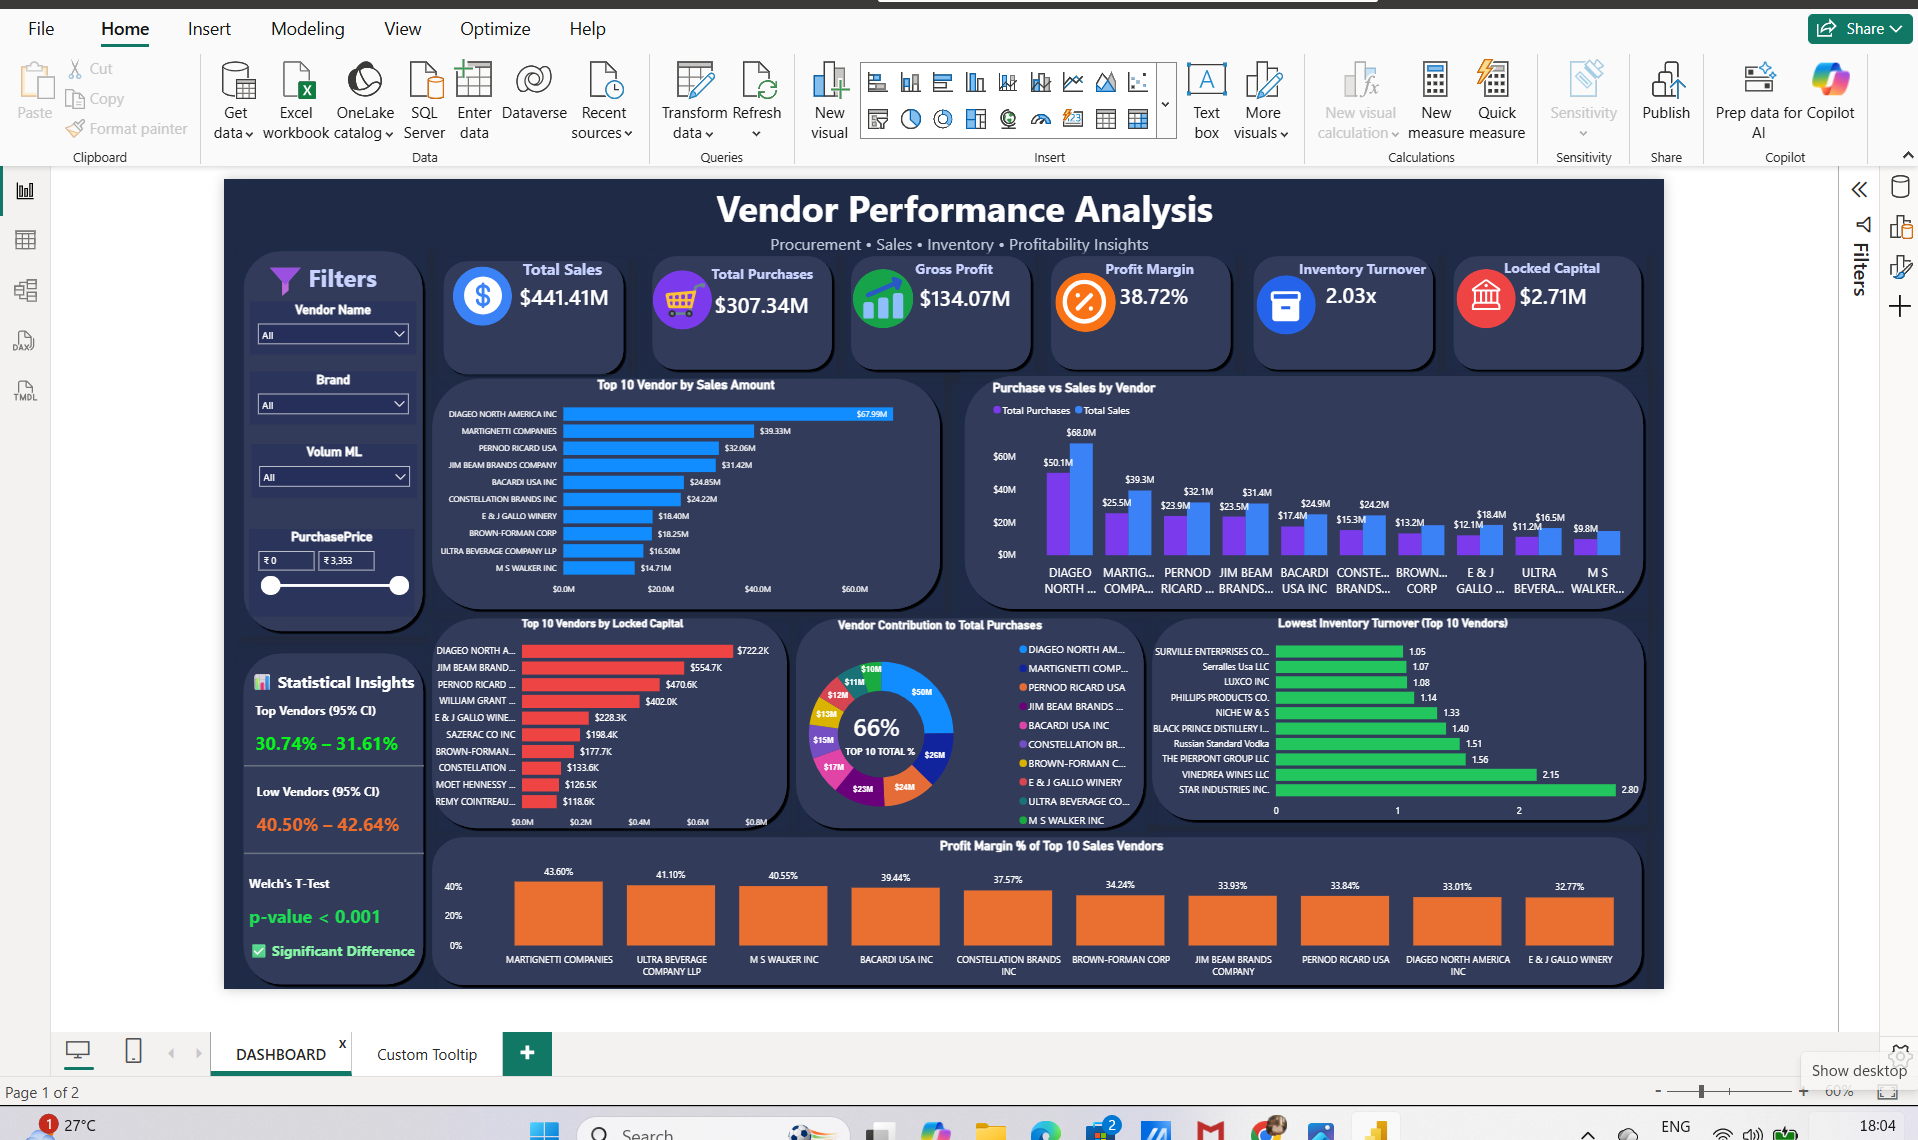

This screenshot's page, from the dashboard's own definition file:
{"tool":"powerbi","page":{"name":"DASHBOARD","canvas":[1920,1080],"ordinal":0},"visuals":[{"type":"shape","box":[20.3,90.4,251,519.1],"z":0},{"type":"shape","box":[19.8,627.4,251.7,453],"z":1000},{"type":"textbox","box":[651.6,0,687.5,79.5],"z":2000},{"type":"textbox","box":[723.3,67,536.3,45.2],"z":3000},{"type":"shape","box":[286.4,103.1,252,163.2],"z":4000},{"type":"shape","box":[564.3,97,251.5,163.6],"z":5000},{"type":"shape","box":[830.1,97,251.5,163.6],"z":6000},{"type":"shape","box":[1097.5,97,251.5,163.6],"z":7000},{"type":"shape","box":[1366.5,97,251.5,163.6],"z":8000},{"type":"shape","box":[1634.1,97.1,262.5,163.5],"z":9000},{"type":"shape","box":[305.3,116.9,79.1,79.1],"z":10000},{"type":"shape","box":[571.3,122.2,79.1,79.1],"z":11000},{"type":"shape","box":[837.8,120.4,80.9,79.1],"z":12000},{"type":"shape","box":[1107.6,125.1,80.9,79.1],"z":13000},{"type":"shape","box":[1376.5,129,79.1,79.1],"z":14000},{"type":"shape","box":[1642.8,120.5,79.1,79.1],"z":15000},{"type":"cardVisual","fields":{"Data":["mesaure.Total Sales"]},"box":[364.5,120.3,180.8,70.2],"z":16000},{"type":"cardVisual","fields":{"Data":["mesaure.Total Purchases"]},"box":[625.1,137.2,188.6,59.2],"z":17000},{"type":"cardVisual","fields":{"Data":["mesaure.Gross Profit"]},"box":[898.9,122.2,188.8,70.1],"z":18000},{"type":"cardVisual","fields":{"Data":["mesaure.Average Profit Margin"]},"box":[1164.9,118.6,158.2,70.1],"z":19000},{"type":"cardVisual","fields":{"Data":["mesaure.Average Stock Turnover"]},"box":[1440,116.8,158.2,70.1],"z":20000},{"type":"cardVisual","fields":{"Data":["mesaure.Locked Capital"]},"box":[1697.6,118.5,222.9,73.3],"z":21000},{"type":"textbox","box":[393.7,100.6,124,41.3],"z":22000},{"type":"textbox","box":[645.4,107.9,156.4,41.3],"z":23000},{"type":"textbox","box":[916.9,102.5,131.2,41.3],"z":24000},{"type":"textbox","box":[1170.3,102.5,156.4,41.3],"z":25000},{"type":"textbox","box":[1428,101.3,194.9,42.1],"z":26000},{"type":"textbox","box":[1702.5,100.7,194.2,41.3],"z":27000},{"type":"image","box":[314.2,120.6,61.1,70.1],"z":28000},{"type":"image","box":[580.3,134.8,70.1,53.9],"z":29000},{"type":"image","box":[846.7,129.4,64.7,55.7],"z":30000},{"type":"image","box":[1109,129,77.3,70.1],"z":31000},{"type":"image","box":[1392.1,138.7,48.3,62.4],"z":32000},{"type":"image","box":[1650.9,127.8,62.4,54.6],"z":33000},{"type":"shape","box":[271.2,260.3,689,319.6],"z":34000},{"type":"shape","box":[982.1,257.2,916.6,322.7],"z":35000},{"type":"shape","box":[271.2,579.9,484.8,291.5],"z":36000},{"type":"shape","box":[756.1,579.9,475.5,291.5],"z":37000},{"type":"shape","box":[1231.5,579.9,667.2,280.6],"z":38000},{"type":"shape","box":[271.2,871.4,1624.4,208.9],"z":39000},{"type":"clusteredColumnChart","title":"Purchase vs Sales by Vendor","fields":{"Category":["Vendor_Performance_Analysis.VendorName"],"Y":["mesaure.Total Purchases","mesaure.Total Sales"]},"box":[1019.5,268.1,879.2,296.2],"z":40000},{"type":"cardVisual","title":"Vendor Contribution to Total Purchases","fields":{"Data":["mesaure.Top 10 Purchase Share"]},"box":[810.7,695.5,145.1,66.1],"z":41000},{"type":"donutChart","title":"Vendor Contribution to Total Purchases","fields":{"Category":["Vendor_Performance_Analysis.VendorName"],"Y":["mesaure.Total Purchases"]},"box":[689,584.6,533.1,293.1],"z":42000},{"type":"textbox","box":[823.1,748.3,130.9,28.1],"z":43000},{"type":"clusteredBarChart","title":"Top 10 Vendors by Locked Capital","fields":{"Category":["Vendor_Performance_Analysis.VendorName"],"Y":["mesaure.Locked Capital"]},"box":[268.1,583,473.9,286.8],"z":44000},{"type":"clusteredBarChart","title":"Lowest Inventory Turnover (Top 10 Vendors)","fields":{"Category":["Vendor_Performance_Analysis.VendorName"],"Y":["mesaure.Vendor Stock Turnover"]},"box":[1222.2,583,673.4,277.5],"z":45000},{"type":"clusteredColumnChart","title":"Profit Margin % of Top 10 Sales Vendors","fields":{"Category":["Vendor_Performance_Analysis.VendorName"],"Y":["mesaure.Average Profit Margin"]},"box":[286.8,877.7,1633.7,194.9],"z":46000},{"type":"slicer","title":"Vendor Name","fields":{"Values":["Vendor_Performance_Analysis.VendorName"]},"box":[34.3,163.7,221.4,70.2],"z":47000},{"type":"textbox","box":[98.2,104.4,120,57.7],"z":48000},{"type":"image","box":[34.3,107.6,93.5,57.7],"z":49000},{"type":"slicer","title":"Brand","fields":{"Values":["Vendor_Performance_Analysis.Brand"]},"box":[34.3,257.2,221.4,70.2],"z":50000},{"type":"slicer","title":"Volum ML","fields":{"Values":["Vendor_Performance_Analysis.Volume"]},"box":[36.1,354.1,221.1,72.2],"z":51000},{"type":"slicer","title":"PurchasePrice","fields":{"Values":["Vendor_Performance_Analysis.PurchasePrice"]},"box":[34.2,467.4,221.1,116.9],"z":52000},{"type":"textbox","box":[31.2,650.1,227.6,45.2],"z":53000},{"type":"textbox","box":[37.4,692.2,218.2,84.2],"z":54000},{"type":"shape","box":[26.5,768.5,240.1,28.1],"z":55000},{"type":"textbox","box":[39,799.7,218.2,88.9],"z":56000},{"type":"shape","box":[26.5,887,240.1,24.9],"z":57000},{"type":"textbox","box":[28.1,905.7,272.8,154.3],"z":58000},{"type":"clusteredBarChart","title":"Top 10 Vendor by Sales Amount","fields":{"Category":["Vendor_Performance_Analysis.VendorName"],"Y":["mesaure.Total Sales"]},"box":[271.2,263.5,689,300.9],"z":58001}]}

Visuals, with their boxes on the page's 1920x1080 design canvas (x1, y1, x2, y2). These are canvas units, not pixel positions in the 1918x1140 screenshot, which may show the page scaled, cropped or inside an application window:
shape: 20:90:271:610
shape: 20:627:272:1080
textbox: 652:0:1339:80
textbox: 723:67:1260:112
shape: 286:103:538:266
shape: 564:97:816:261
shape: 830:97:1082:261
shape: 1098:97:1349:261
shape: 1366:97:1618:261
shape: 1634:97:1897:261
shape: 305:117:384:196
shape: 571:122:650:201
shape: 838:120:919:200
shape: 1108:125:1188:204
shape: 1376:129:1456:208
shape: 1643:120:1722:200
cardVisual - mesaure.Total Sales: 364:120:545:190
cardVisual - mesaure.Total Purchases: 625:137:814:196
cardVisual - mesaure.Gross Profit: 899:122:1088:192
cardVisual - mesaure.Average Profit Margin: 1165:119:1323:189
cardVisual - mesaure.Average Stock Turnover: 1440:117:1598:187
cardVisual - mesaure.Locked Capital: 1698:118:1920:192
textbox: 394:101:518:142
textbox: 645:108:802:149
textbox: 917:102:1048:144
textbox: 1170:102:1327:144
textbox: 1428:101:1623:143
textbox: 1702:101:1897:142
image: 314:121:375:191
image: 580:135:650:189
image: 847:129:911:185
image: 1109:129:1186:199
image: 1392:139:1440:201
image: 1651:128:1713:182
shape: 271:260:960:580
shape: 982:257:1899:580
shape: 271:580:756:871
shape: 756:580:1232:871
shape: 1232:580:1899:860
shape: 271:871:1896:1080
"Purchase vs Sales by Vendor" clusteredColumnChart: 1020:268:1899:564
"Vendor Contribution to Total Purchases" cardVisual: 811:696:956:762
"Vendor Contribution to Total Purchases" donutChart: 689:585:1222:878
textbox: 823:748:954:776
"Top 10 Vendors by Locked Capital" clusteredBarChart: 268:583:742:870
"Lowest Inventory Turnover (Top 10 Vendors)" clusteredBarChart: 1222:583:1896:860
"Profit Margin % of Top 10 Sales Vendors" clusteredColumnChart: 287:878:1920:1073
"Vendor Name" slicer: 34:164:256:234
textbox: 98:104:218:162
image: 34:108:128:165
"Brand" slicer: 34:257:256:327
"Volum ML" slicer: 36:354:257:426
"PurchasePrice" slicer: 34:467:255:584
textbox: 31:650:259:695
textbox: 37:692:256:776
shape: 26:768:267:797
textbox: 39:800:257:889
shape: 26:887:267:912
textbox: 28:906:301:1060
"Top 10 Vendor by Sales Amount" clusteredBarChart: 271:264:960:564
